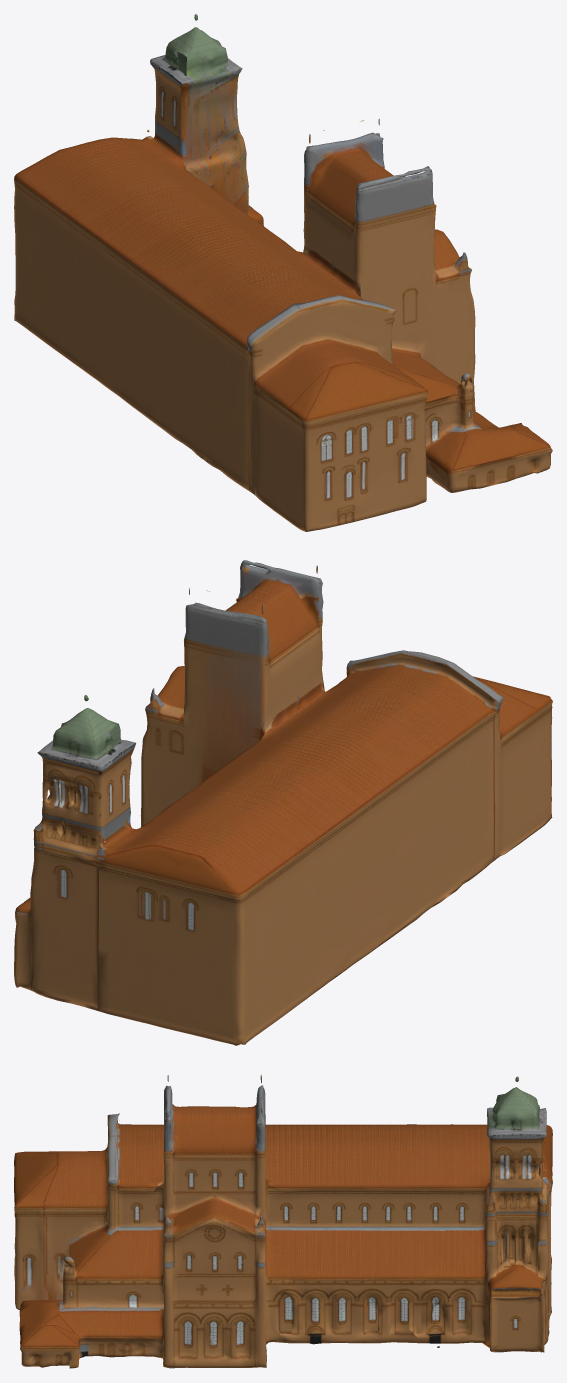
The model's file is Catedral.fbx.
The picture shows the model from 3 angles, top to bottom: view 1: azimuth 30°, elevation 25°; view 2: azimuth 150°, elevation 25°; view 3: azimuth 270°, elevation 25°; orthographic projection. The views are drawn at different scales.
Parts seen in each view (by area): view 1: tripo_node_4cea5928; view 2: tripo_node_4cea5928; view 3: tripo_node_4cea5928.
Boxes of the visible parts, bbox=[...] form: tripo_node_4cea5928: bbox=[14, 14, 552, 531]; tripo_node_4cea5928: bbox=[14, 560, 552, 1045]; tripo_node_4cea5928: bbox=[14, 1074, 552, 1368].
Bounding box in the file's own units: 0.5 × 0.5259 × 0.9966.
Materials: 1 (1 with a texture image).
